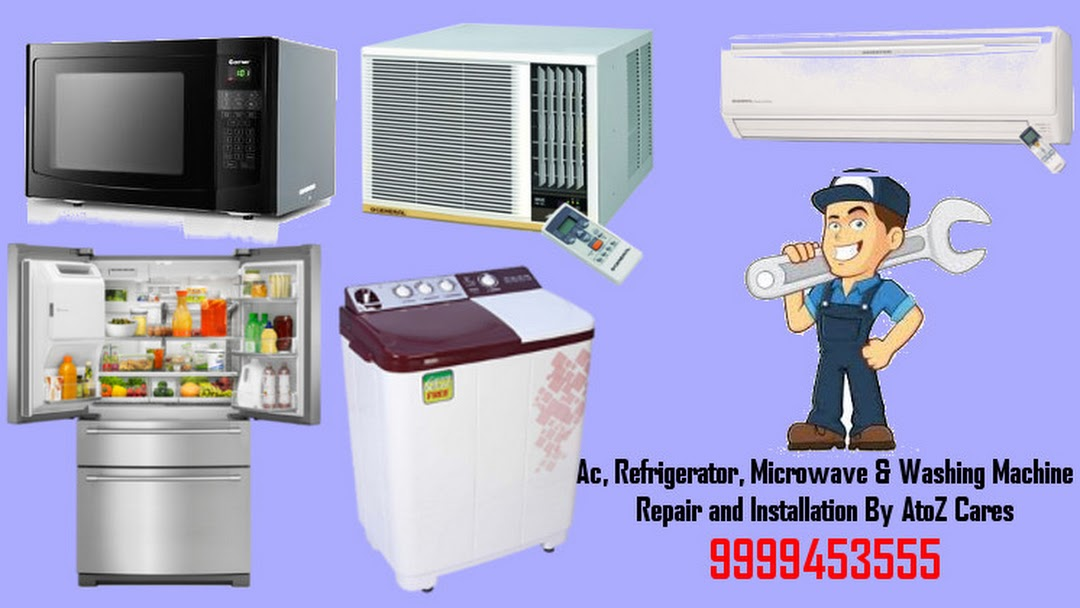AC: (720, 38, 1064, 144)
Refrigerator: (11, 241, 317, 592)
